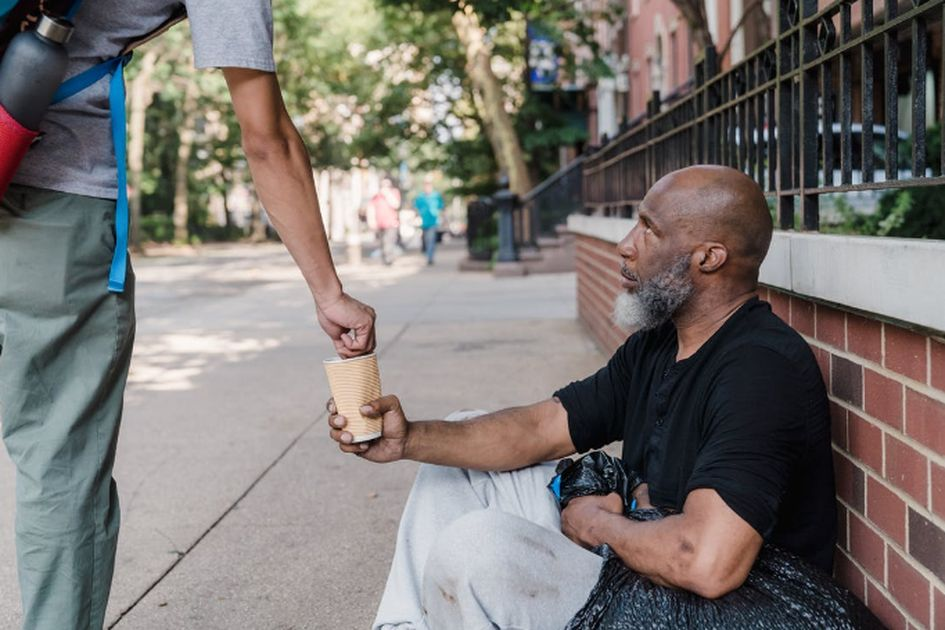gelandangan: (287, 161, 886, 630)
